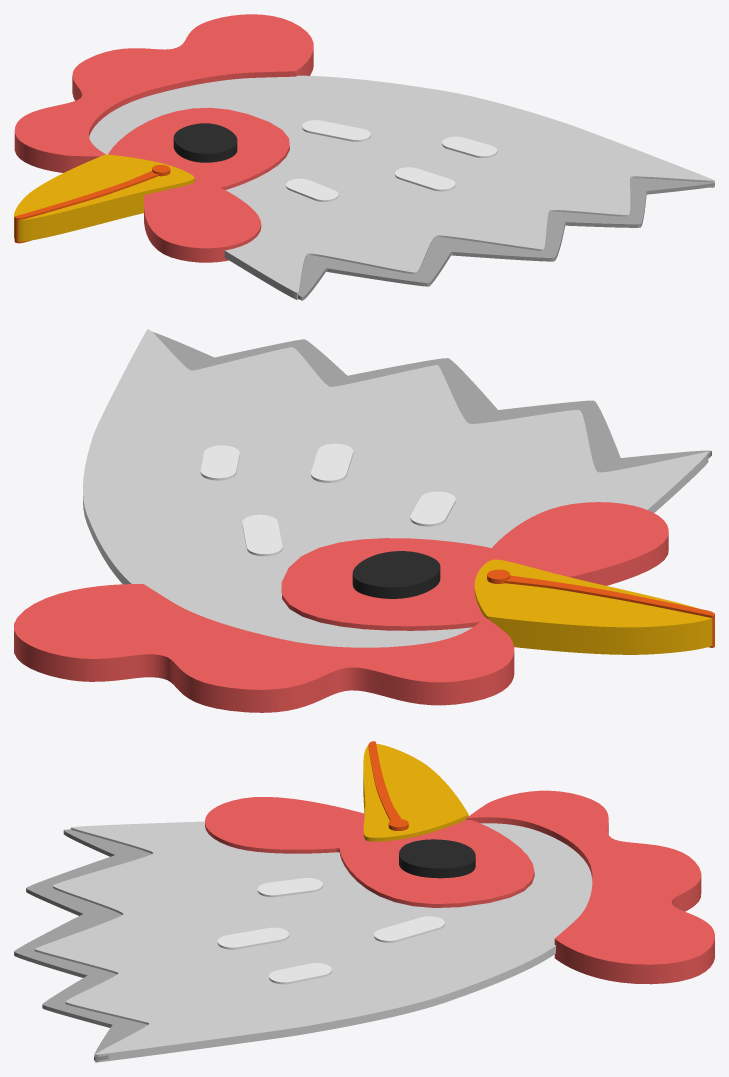
File: emoji_u1f414.glb
3 views of the same model, one above another, from view 1: azimuth 30°, elevation 25°; view 2: azimuth 150°, elevation 25°; view 3: azimuth 270°, elevation 25° (orthographic). The views are drawn at different scales.
Visible parts, largest first — view 1: emoji_u1f414; view 2: emoji_u1f414; view 3: emoji_u1f414.
Boxes of the visible parts, x1,y1,x2,y2 form: emoji_u1f414: (14, 14, 714, 300); emoji_u1f414: (14, 329, 714, 712); emoji_u1f414: (14, 741, 714, 1062).
Bounding box in the file's own units: 0.0333 × 0.0018 × 0.0325.
